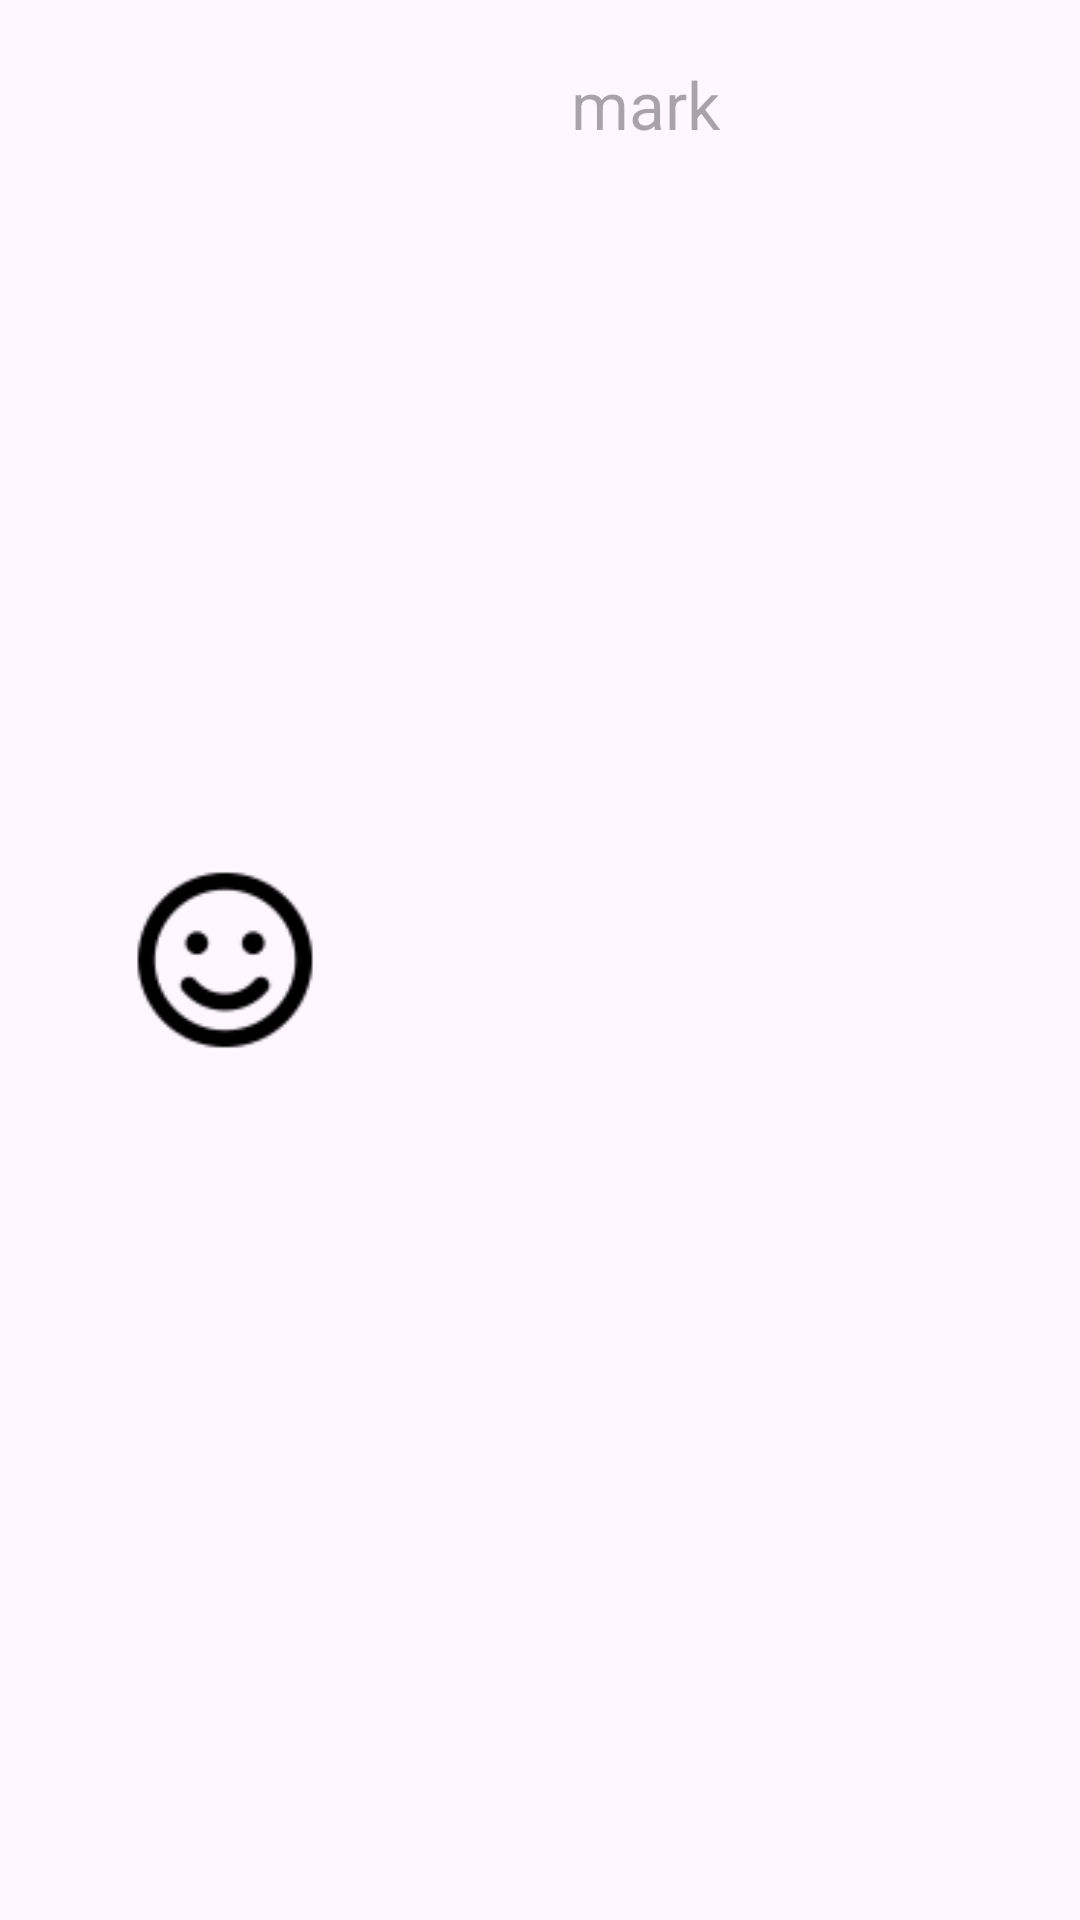

Point at icon controls on the screen. Image size 1080x1920, points as (x=x, y=y).
happy: (x=225, y=960)
